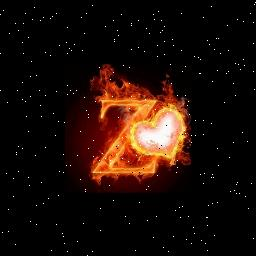z: (88, 94, 160, 182)
